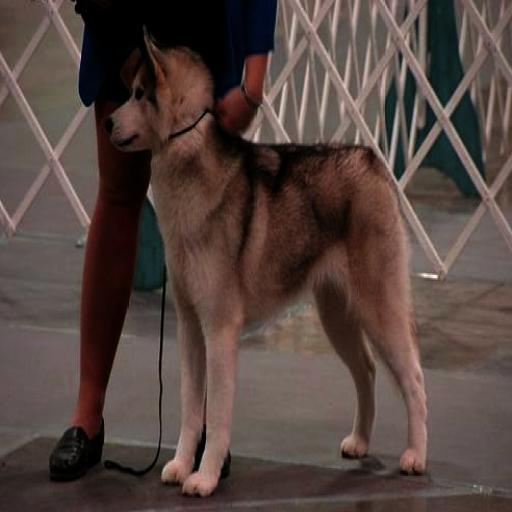dog_face: (104, 38, 199, 160)
